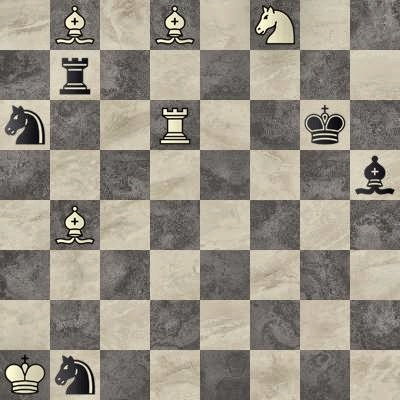black-bishop: (350, 150, 400, 200)
black-king: (300, 100, 350, 150)
black-knight: (0, 100, 50, 150), (50, 350, 100, 400)
black-rook: (50, 50, 100, 100)
white-bishop: (50, 0, 100, 50), (150, 0, 200, 50), (50, 200, 100, 250)
white-king: (0, 350, 50, 400)
white-knight: (250, 0, 300, 50)
white-rook: (150, 100, 200, 150)
